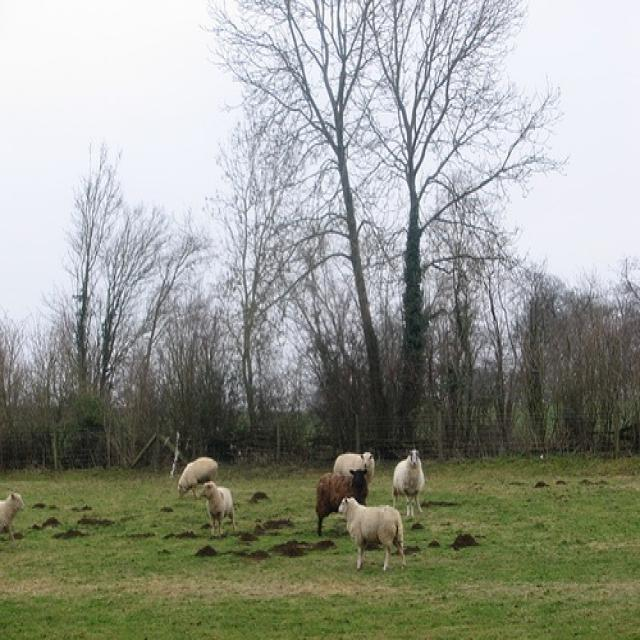sheep: (337, 496, 408, 574), (312, 468, 365, 532), (394, 449, 426, 514), (206, 481, 238, 538), (337, 447, 371, 492), (181, 456, 220, 495), (0, 490, 26, 541)
